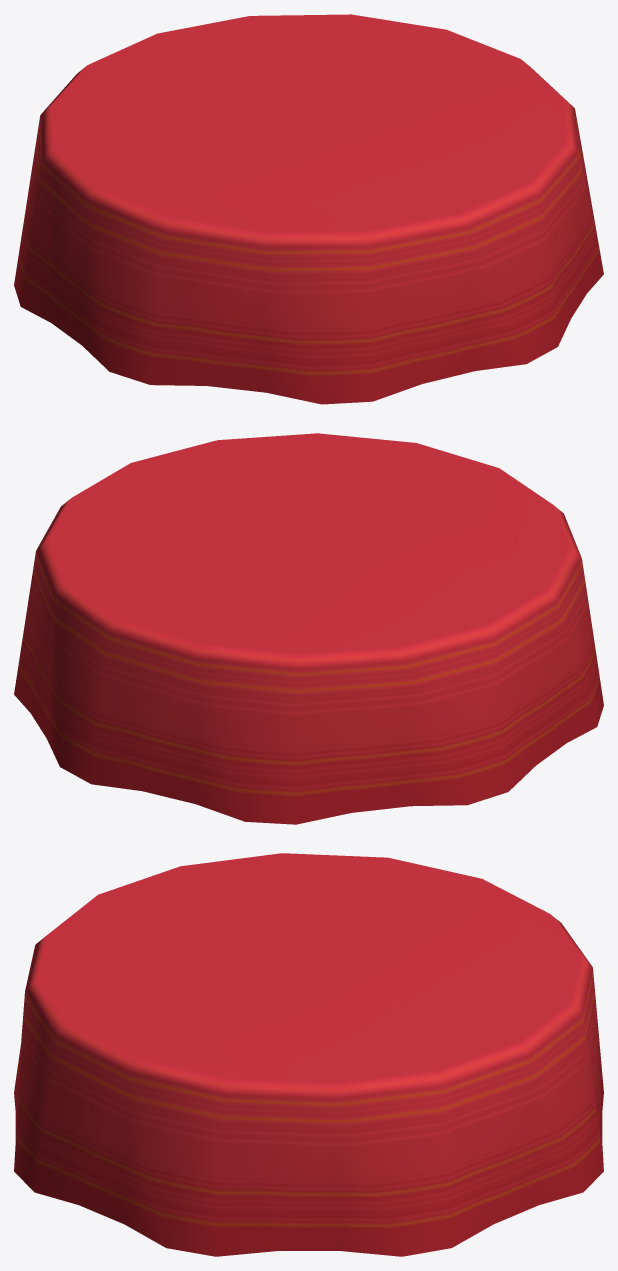
Rendered from tablecloth-01.glb.
3 views of the same model, one above another, from view 1: azimuth 30°, elevation 25°; view 2: azimuth 150°, elevation 25°; view 3: azimuth 270°, elevation 25° (orthographic). The views are drawn at different scales.
Visible parts, largest first — view 1: Tablecloth_01; view 2: Tablecloth_01; view 3: Tablecloth_01.
Boxes of the visible parts, x1,y1,x2,y2 form: Tablecloth_01: [14, 14, 603, 404]; Tablecloth_01: [14, 433, 603, 824]; Tablecloth_01: [14, 853, 603, 1256].
Size of the model in its own units: 1.04 by 0.3188 by 1.04.
1 material, 1 textured.
